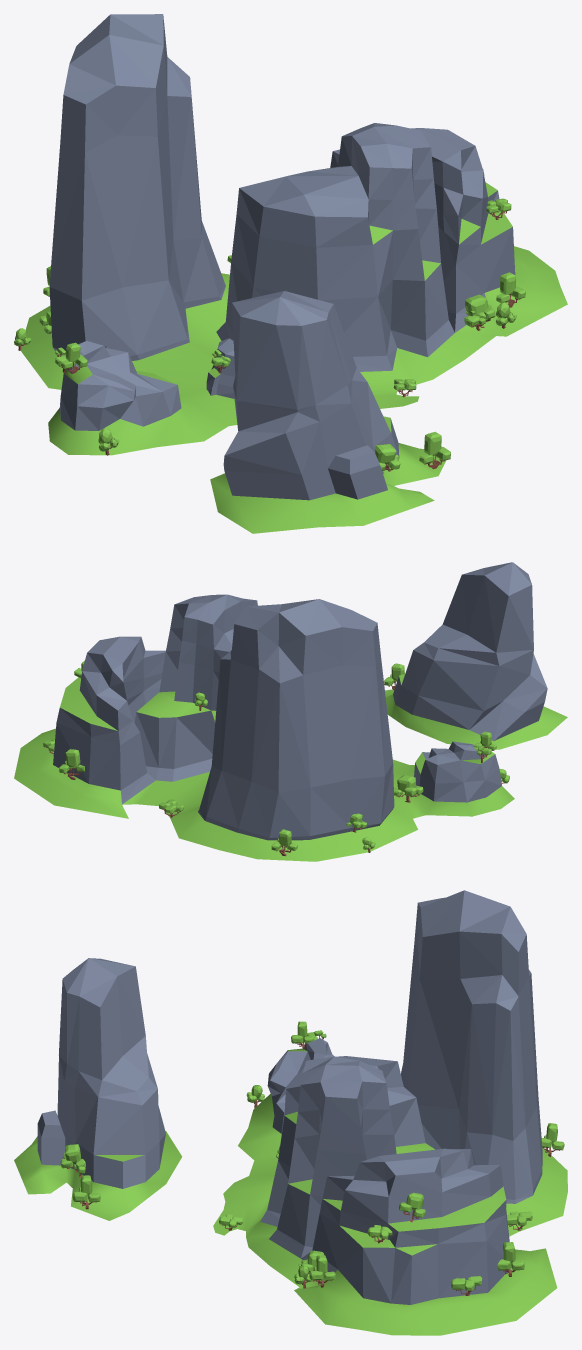
The model's file is geostructures_no7.fbx.
3 renders of one model, top to bottom at view 1: azimuth 30°, elevation 25°; view 2: azimuth 150°, elevation 25°; view 3: azimuth 270°, elevation 25°, orthographic. The views are drawn at different scales.
Visible parts, largest first — view 1: landform_07shrubbed:geology, landform_07shrubbed:shrubs; view 2: landform_07shrubbed:geology, landform_07shrubbed:shrubs; view 3: landform_07shrubbed:geology, landform_07shrubbed:shrubs.
Boxes of the visible parts, box(x1,y1,x2,y2) form: landform_07shrubbed:geology: box(20, 14, 567, 533); landform_07shrubbed:shrubs: box(14, 169, 525, 473); landform_07shrubbed:geology: box(14, 562, 567, 861); landform_07shrubbed:shrubs: box(43, 660, 509, 856); landform_07shrubbed:geology: box(14, 890, 567, 1335); landform_07shrubbed:shrubs: box(60, 1021, 564, 1295).
Size of the model in its own units: 48676 by 25620 by 47513.
